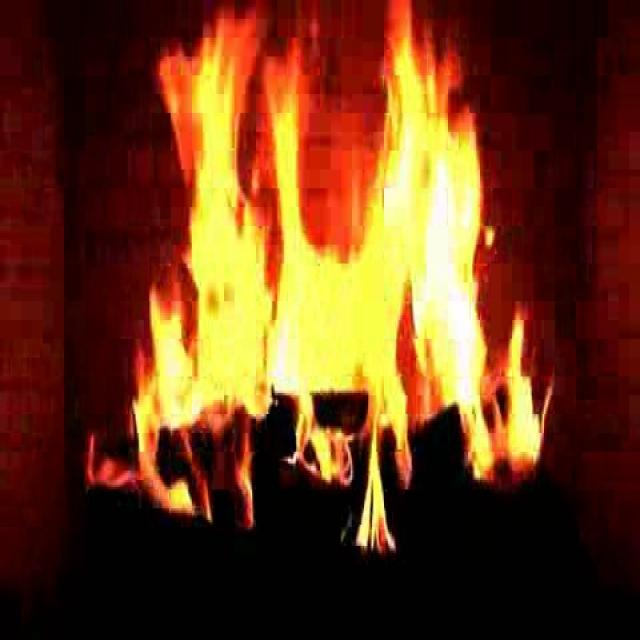fire: (130, 6, 534, 511)
